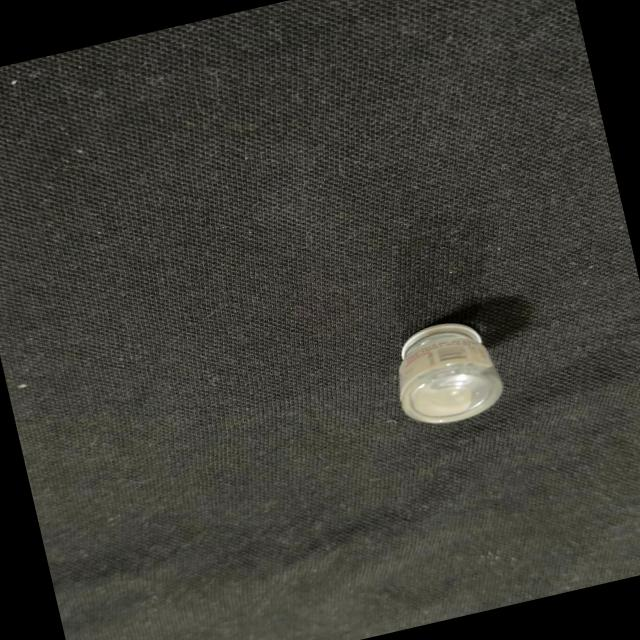fentanl_citrat: (386, 315, 506, 429)
